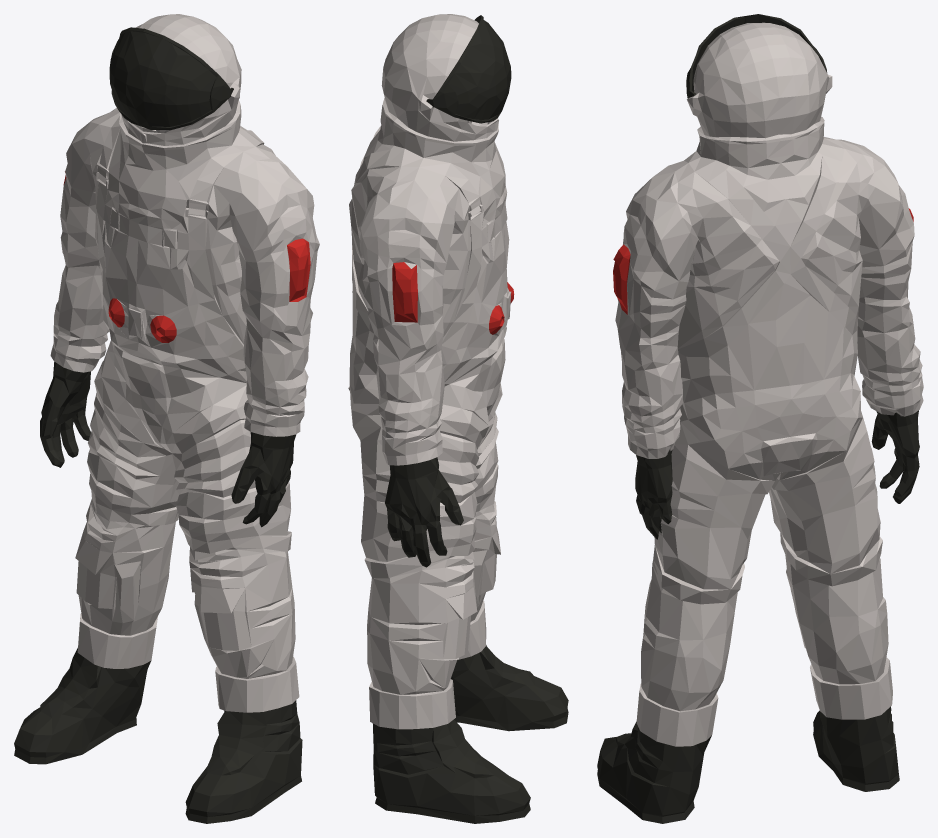
The model's file is 06 Astonaut_1.FBX.
3 views of the same model, side by side, from view 1: azimuth 30°, elevation 25°; view 2: azimuth 150°, elevation 25°; view 3: azimuth 270°, elevation 25° (orthographic). The views are drawn at different scales.
Parts seen in each view (by area): view 1: suit006; view 2: suit006; view 3: suit006.
Part boxes in pixels (x1,y1,x2,y2): suit006: (14, 14, 319, 823); suit006: (348, 14, 568, 823); suit006: (597, 14, 923, 823).
Size of the model in its own units: 528 by 1780 by 693.
